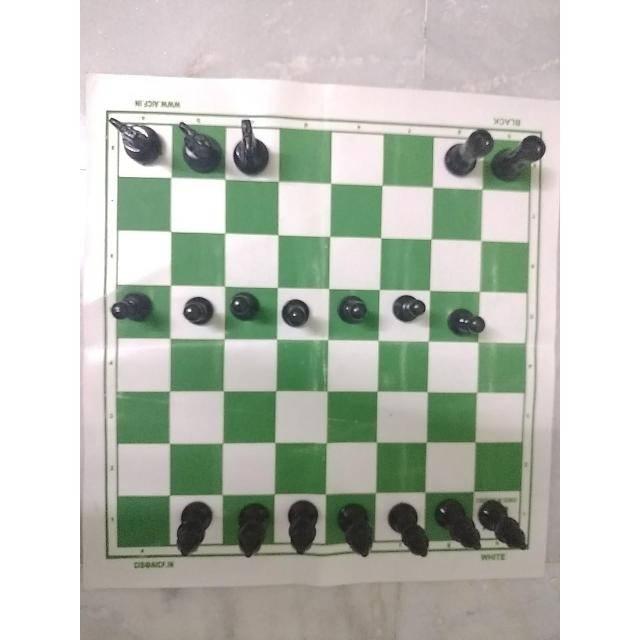black-bishop: (330, 489, 380, 569), (431, 494, 481, 568), (225, 497, 275, 570), (487, 498, 539, 562), (283, 493, 324, 569), (175, 491, 217, 563), (389, 496, 429, 566)
black-knight: (169, 111, 223, 179), (107, 106, 163, 170), (229, 109, 277, 181)
black-pawn: (102, 281, 156, 339), (444, 293, 490, 352), (391, 288, 434, 340), (178, 286, 214, 340), (279, 289, 319, 337), (335, 283, 372, 333), (225, 286, 264, 330)
black-rook: (496, 116, 552, 188), (440, 118, 498, 184)
